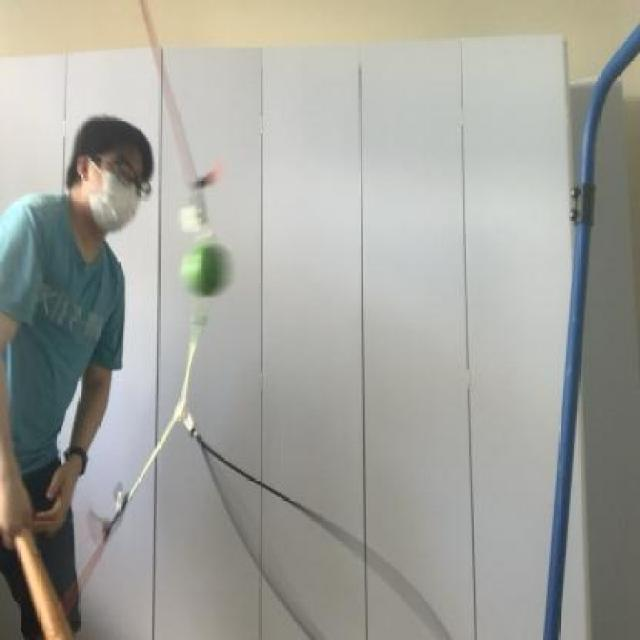baseball: (177, 238, 234, 300)
